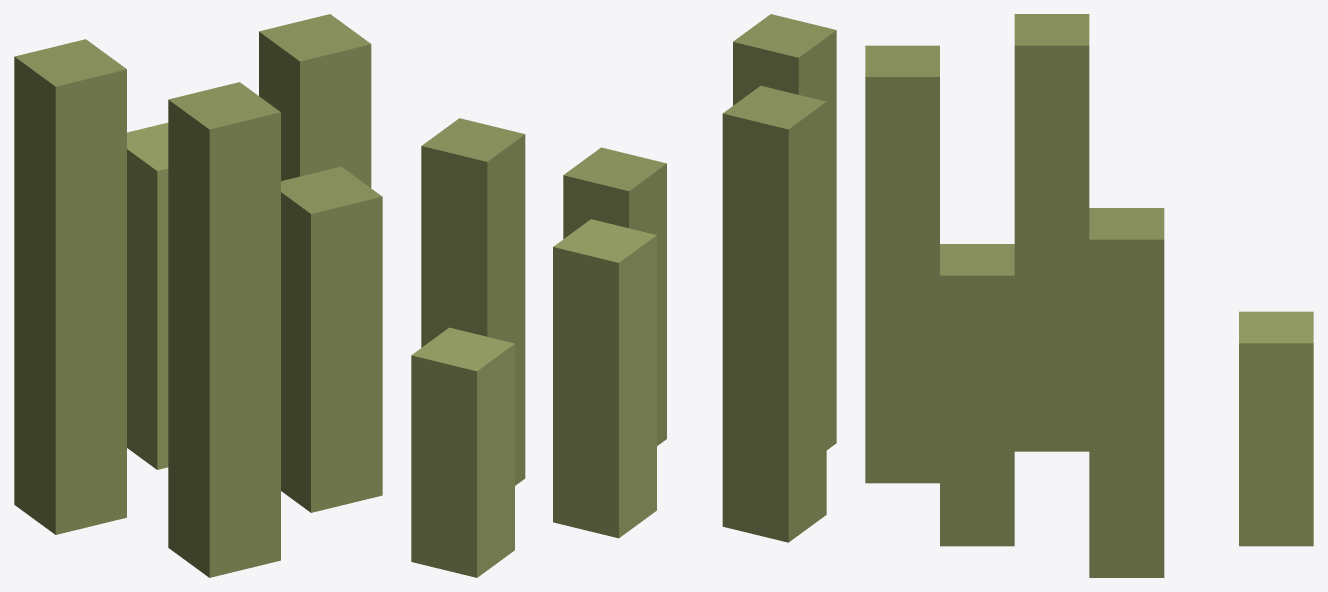
Rendered from espadana_03.glb.
3 views of the same model, side by side, from view 1: azimuth 30°, elevation 25°; view 2: azimuth 150°, elevation 25°; view 3: azimuth 270°, elevation 25° (orthographic). The views are drawn at different scales.
Visible parts, largest first — view 1: espadana_03; view 2: espadana_03; view 3: espadana_03.
Boxes of the visible parts, left/top/right/bottom form: espadana_03: left=14, top=14, right=382, bottom=577; espadana_03: left=411, top=14, right=836, bottom=577; espadana_03: left=865, top=14, right=1313, bottom=577.
Bounding box in the file's own units: 0.5 × 0.6 × 0.6.
